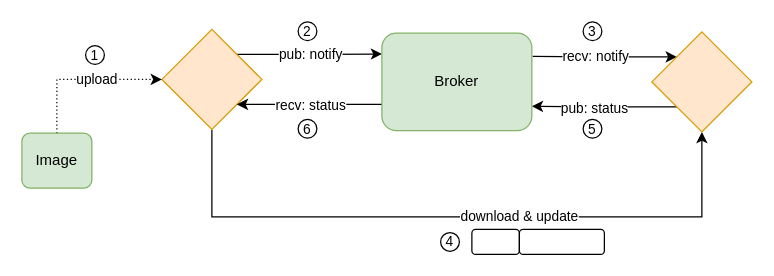
Image size: 774x276. Some labels were removed from this diagram. Each missing label, with the centre of its shape:
"boot" belongs at (x=495, y=241).
"rootfs" belongs at (x=561, y=241).
"Server" belongs at (x=211, y=78).
"X261" belongs at (x=701, y=81).
